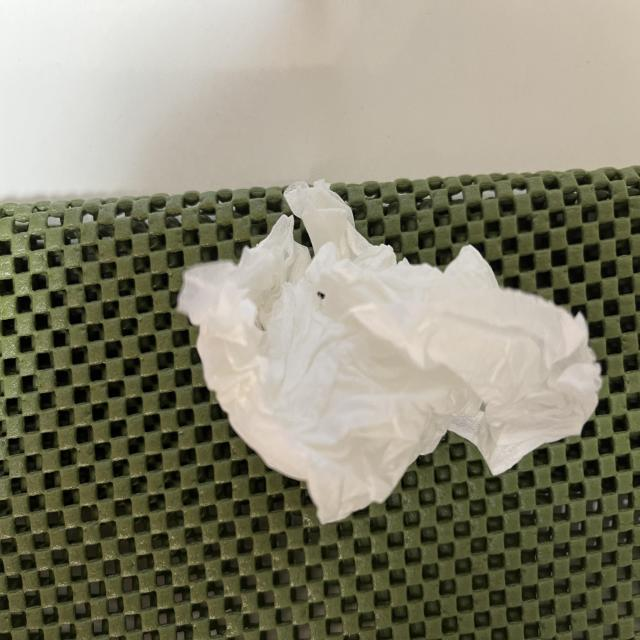Paper: (150, 185, 615, 525)
